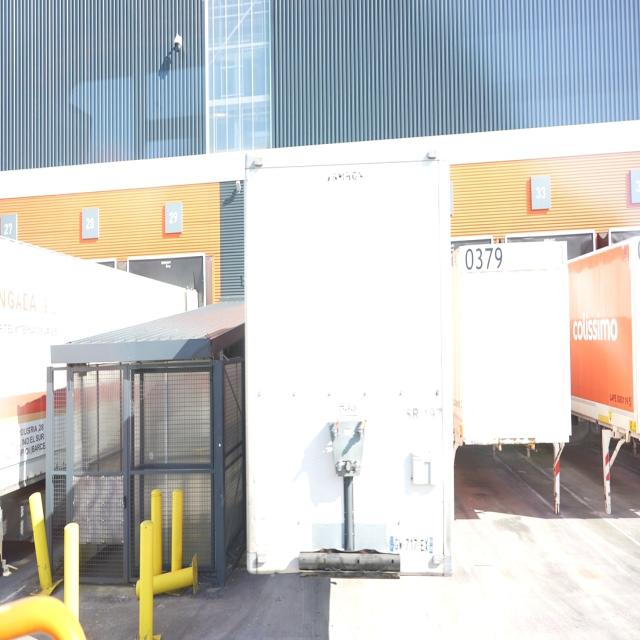Code: (464, 243, 505, 276)
